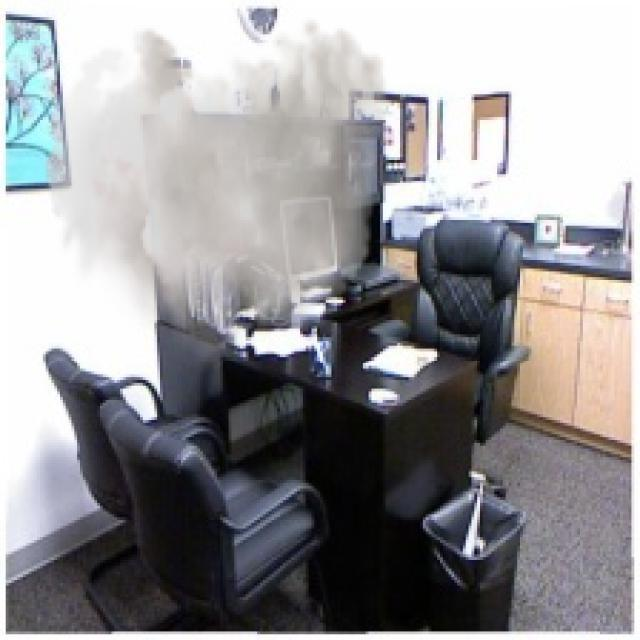Smoke: (46, 17, 388, 377)
